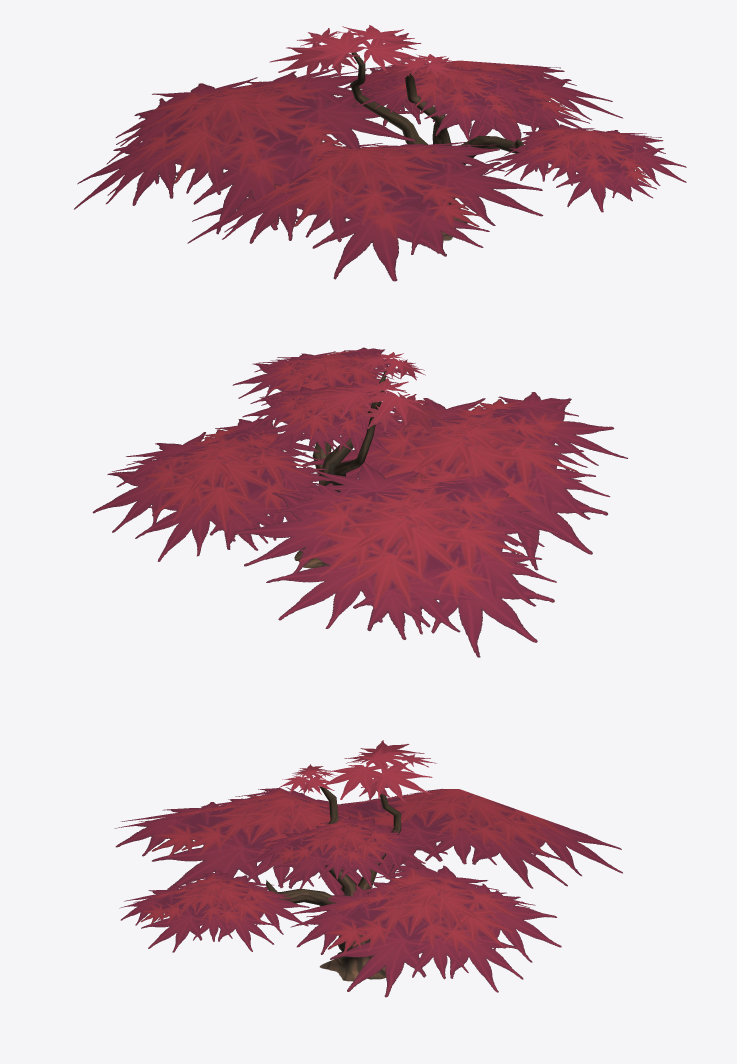
The model's file is shrub_maple_01.fbx.
The picture shows the model from 3 angles, top to bottom: view 1: azimuth 30°, elevation 25°; view 2: azimuth 150°, elevation 25°; view 3: azimuth 270°, elevation 25°; orthographic projection. The views are drawn at different scales.
Visible parts, largest first — view 1: shrub_maple_01; view 2: shrub_maple_01; view 3: shrub_maple_01.
Boxes of the visible parts, x1,y1,x2,y2 form: shrub_maple_01: [74, 25, 686, 281]; shrub_maple_01: [92, 347, 627, 657]; shrub_maple_01: [114, 740, 622, 997].
Size of the model in its own units: 481 by 135 by 487.
1 material, 1 textured.
